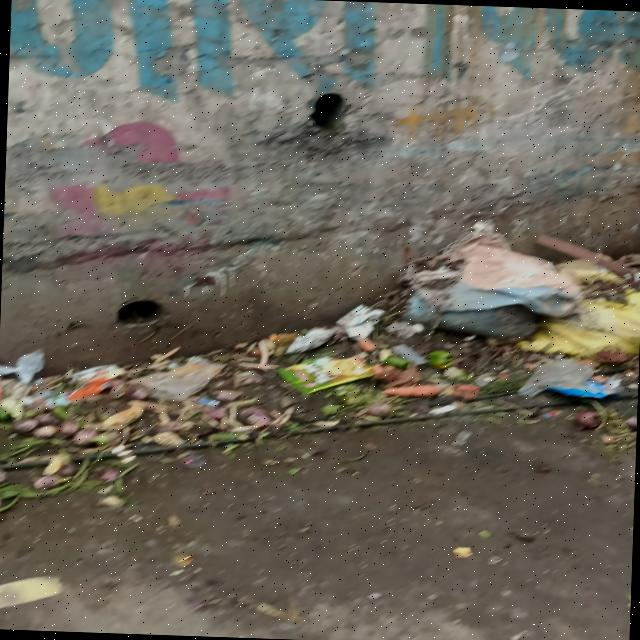garbage: (285, 217, 640, 430), (0, 339, 279, 468)
